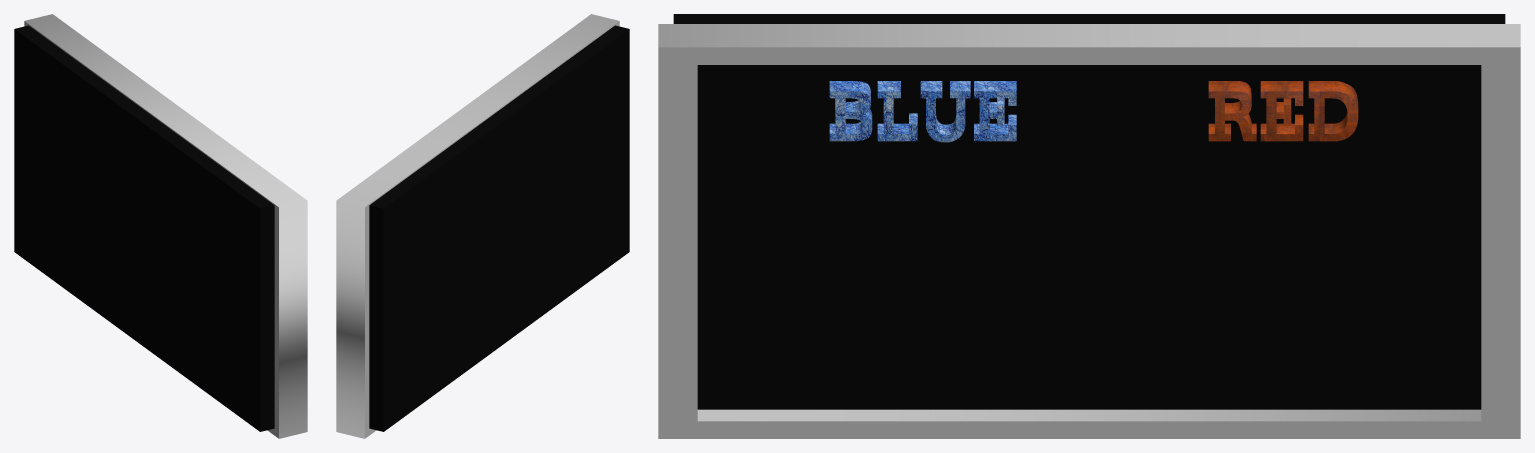
File: panel.DAE
3 renders of one model, left to right at view 1: azimuth 30°, elevation 25°; view 2: azimuth 150°, elevation 25°; view 3: azimuth 270°, elevation 25°, orthographic. The views are drawn at different scales.
Visible parts, largest first — view 1: Quader004, Rohr002; view 2: Quader004, Rohr002; view 3: Quader004, Rohr002, Text004, Text005.
Part boxes in pixels (x1,y1,x2,y2): Quader004: (14,25,274,431); Rohr002: (24,14,307,438); Quader004: (369,25,629,431); Rohr002: (336,14,619,438); Quader004: (673,14,1505,409); Rohr002: (658,24,1520,438); Text004: (829,81,1016,142); Text005: (1208,81,1358,141).
Bounding box in the file's own units: 1.51 × 15.56 × 7.8.
